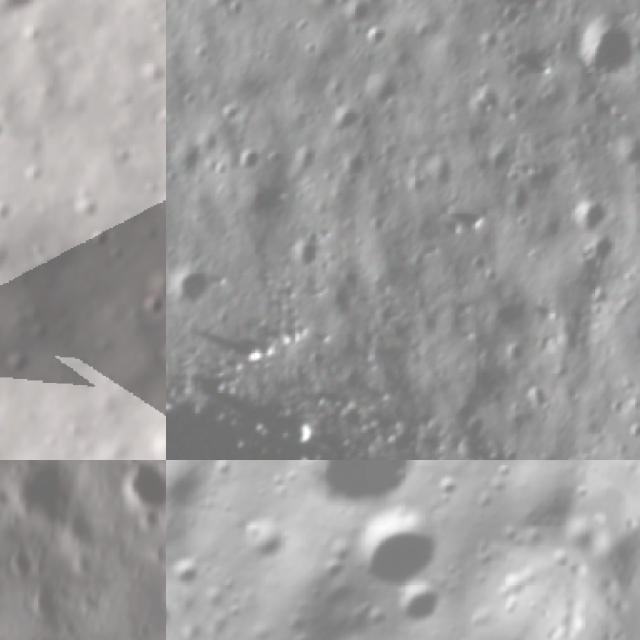crater: (249, 460, 452, 534), (336, 490, 450, 606), (477, 460, 608, 548), (1, 460, 90, 527), (222, 502, 298, 577), (166, 460, 231, 533), (580, 1, 640, 78), (382, 570, 442, 632), (114, 460, 166, 516), (169, 264, 231, 309), (574, 184, 616, 229), (290, 227, 330, 274), (24, 580, 64, 622), (428, 467, 468, 509), (3, 546, 48, 583), (365, 69, 405, 103), (330, 99, 364, 134), (586, 233, 619, 269), (132, 289, 166, 323), (479, 0, 554, 15), (358, 20, 393, 52), (235, 141, 264, 172), (146, 421, 166, 460), (144, 503, 165, 535)
